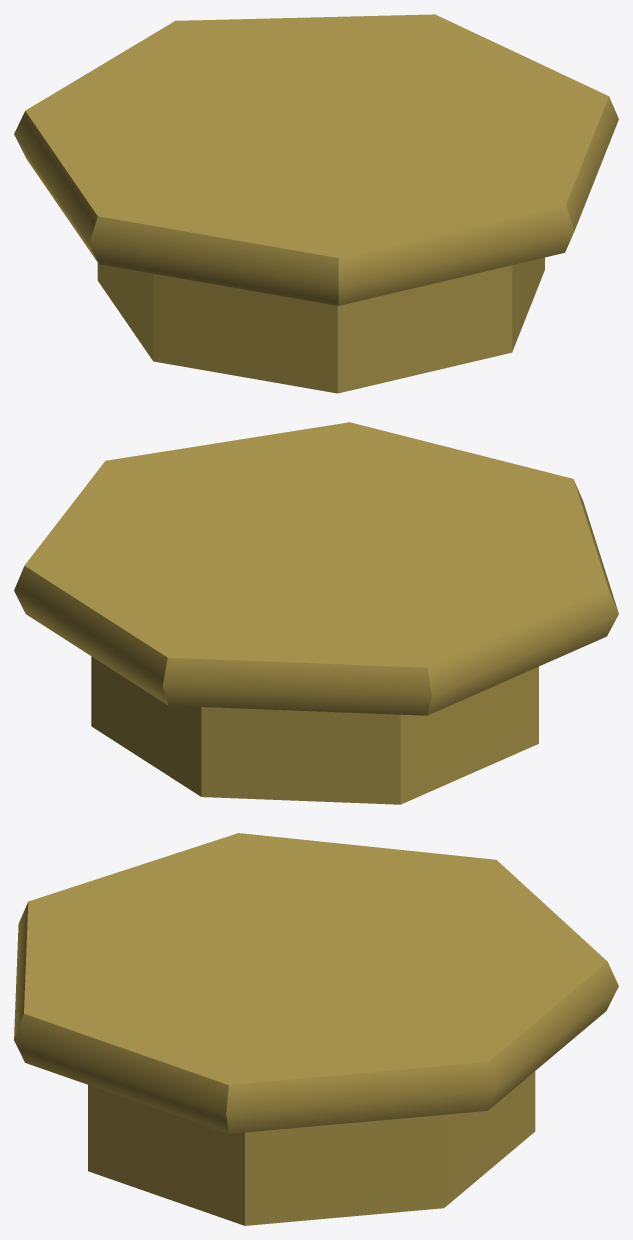
The model's file is small_Platform.fbx.
3 renders of one model, top to bottom at view 1: azimuth 30°, elevation 25°; view 2: azimuth 150°, elevation 25°; view 3: azimuth 270°, elevation 25°, orthographic. The views are drawn at different scales.
Parts seen in each view (by area): view 1: pCylinder9; view 2: pCylinder9; view 3: pCylinder9.
Boxes of the visible parts, x1,y1,x2,y2 form: pCylinder9: [14, 14, 618, 393]; pCylinder9: [14, 422, 618, 804]; pCylinder9: [14, 833, 618, 1225].
Size of the model in its own units: 5.77 by 1.74 by 5.64.
